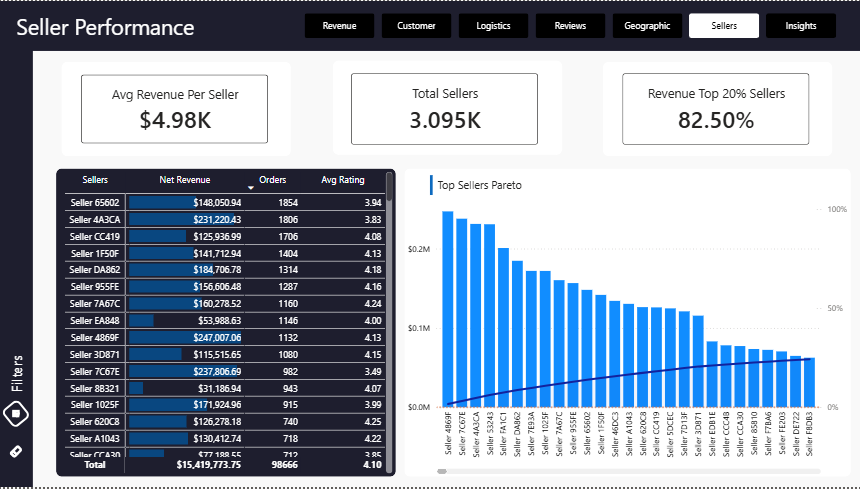

Layout of this report page (visuals, bound fields, positions):
{"tool":"powerbi","page":{"name":"Sellers","canvas":[1280,720],"ordinal":5},"visuals":[{"type":"shape","box":[0,0,51.7,720],"z":0,"group":"g1"},{"type":"cardVisual","fields":{"Data":["Count(olist_sellers_dataset.seller_id)"]},"box":[506.7,90,311.7,140],"z":0,"group":"g2"},{"type":"shape","box":[85,248.3,503.3,456.7],"z":0},{"type":"textbox","box":[646.3,256.7,320,38],"z":0,"group":"g3"},{"type":"shape","box":[0,0,1280,74],"z":1000,"group":"g1"},{"type":"cardVisual","fields":{"Data":["olist_sellers_dataset.Avg Revenue Per Seller"]},"box":[106.7,91.7,311.7,136.7],"z":1000,"group":"g2"},{"type":"shape","box":[601.7,248.3,661.7,456.7],"z":1000},{"type":"shape","box":[608.3,258.7,67.9,29.4],"z":1000,"group":"g3"},{"type":"textbox","box":[22,10,322,54],"z":2000,"group":"g1"},{"type":"shape","box":[895,90,340,140],"z":2000},{"type":"cardVisual","fields":{"Data":["olist_orders_dataset.Revenue Top 20% Sellers"]},"box":[908.4,90,311.7,140],"z":2000,"group":"g2"},{"type":"shape","box":[496.7,88.3,340,140],"z":3000},{"type":"actionButton","box":[7.1,647.1,37.1,38.6],"z":3000,"group":"g1"},{"type":"shape","box":[93.3,90,340,140],"z":4000},{"type":"actionButton","box":[4.1,576.2,45,70.8],"z":4000,"group":"g1"},{"type":"pageNavigator","box":[454.3,18.6,791.4,37.1],"z":5000,"group":"g1"},{"type":"pivotTable","fields":{"Values":["olist_orders_dataset.Total Net Revenue","olist_sellers_dataset.Seller Total Orders","olist_sellers_dataset.Seller Avg Review"],"Rows":["olist_sellers_dataset.Seller Display Name"]},"box":[93.3,248.3,495,456.7],"z":5000},{"type":"lineClusteredColumnComboChart","fields":{"Y":["olist_orders_dataset.Total Net Revenue"],"Y2":["olist_sellers_dataset.Pareto Cumulative"],"Category":["olist_sellers_dataset.Seller Display Name"]},"box":[601.7,293.3,661.7,411.7],"z":6000},{"type":"actionButton","box":[5.4,508.1,42.2,88.5],"z":6000,"group":"g1"},{"type":"group","id":"g1","title":"Group 2","box":[0,0,1280,720],"z":7000},{"type":"group","id":"g2","title":"Group 1","box":[106.7,90,1113.3,140],"z":8000},{"type":"group","id":"g3","title":"Group 3","box":[608.3,256.7,358.3,36.7],"z":9000}]}

Visuals, with their boxes in screenshot pixels (x1, y1, x2, y2), scaled from the page's 1280x720 canvas onto the 860x489 screenshot:
shape: rect(0, 0, 35, 488)
cardVisual - Count(olist_sellers_dataset.seller_id): rect(340, 61, 550, 156)
shape: rect(57, 169, 395, 479)
textbox: rect(434, 174, 649, 200)
shape: rect(0, 0, 859, 50)
cardVisual - olist_sellers_dataset.Avg Revenue Per Seller: rect(72, 62, 281, 155)
shape: rect(404, 169, 849, 479)
shape: rect(409, 176, 454, 196)
textbox: rect(15, 7, 231, 43)
shape: rect(601, 61, 830, 156)
cardVisual - olist_orders_dataset.Revenue Top 20% Sellers: rect(610, 61, 820, 156)
shape: rect(334, 60, 562, 155)
actionButton: rect(5, 439, 30, 466)
shape: rect(63, 61, 291, 156)
actionButton: rect(3, 391, 33, 439)
pageNavigator: rect(305, 13, 837, 38)
pivotTable - olist_orders_dataset.Total Net Revenue x olist_sellers_dataset.Seller Total Orders: rect(63, 169, 395, 479)
lineClusteredColumnComboChart - olist_orders_dataset.Total Net Revenue x olist_sellers_dataset.Pareto Cumulative: rect(404, 199, 849, 479)
actionButton: rect(4, 345, 32, 405)
"Group 2" group: rect(0, 0, 859, 488)
"Group 1" group: rect(72, 61, 820, 156)
"Group 3" group: rect(409, 174, 649, 199)
